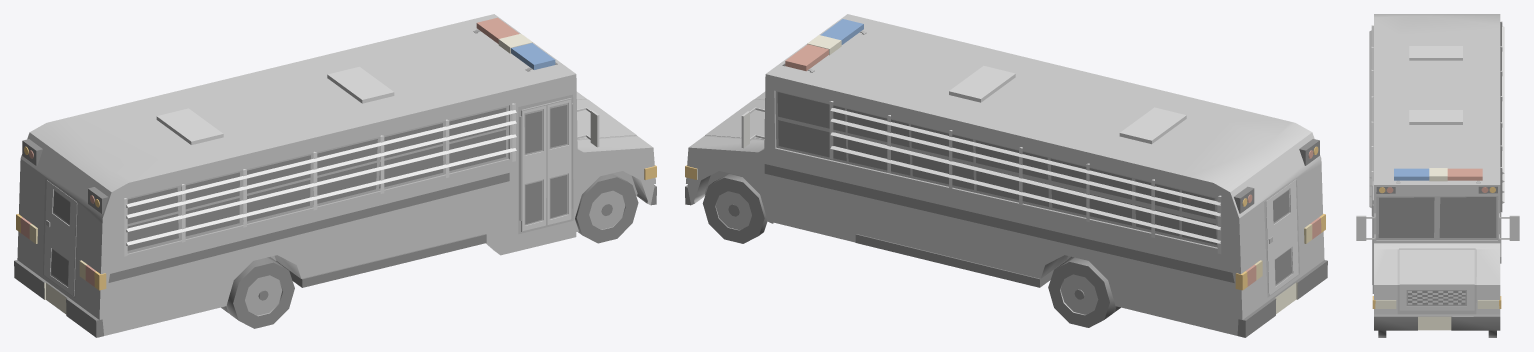
The model's file is bus.fbx.
3 views of the same model, side by side, from view 1: azimuth 30°, elevation 25°; view 2: azimuth 150°, elevation 25°; view 3: azimuth 270°, elevation 25° (orthographic). The views are drawn at different scales.
Parts seen in each view (by area): view 1: Cube_1, Cylinder_12, Cylinder_1, Cylinder_3, Cube_5, Cylinder_6, Cylinder_4; view 2: Cube_1, Cylinder_2, Cylinder_11, Cylinder_6, Cylinder_4; view 3: Cube_1, Cylinder_4, Cube_5.
Part boxes in pixels (x1,y1,x2,y2): Cube_1: [14, 14, 656, 337]; Cylinder_12: [221, 257, 294, 328]; Cylinder_1: [519, 104, 546, 231]; Cylinder_3: [575, 173, 638, 243]; Cube_5: [546, 98, 572, 225]; Cylinder_6: [44, 180, 77, 296]; Cylinder_4: [577, 99, 636, 139]; Cube_1: [685, 14, 1327, 337]; Cylinder_2: [1048, 257, 1120, 327]; Cylinder_11: [702, 174, 767, 243]; Cylinder_6: [1266, 179, 1299, 295]; Cylinder_4: [705, 99, 764, 139]; Cube_1: [1356, 14, 1519, 330]; Cylinder_4: [1399, 248, 1475, 310]; Cube_5: [1372, 190, 1373, 293].
Bounding box in the file's own units: 964 × 304 × 316.
